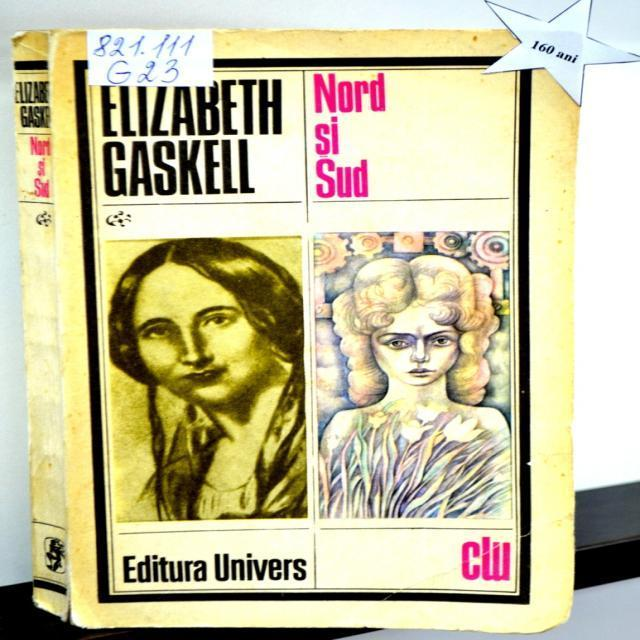book: (12, 6, 565, 616)
